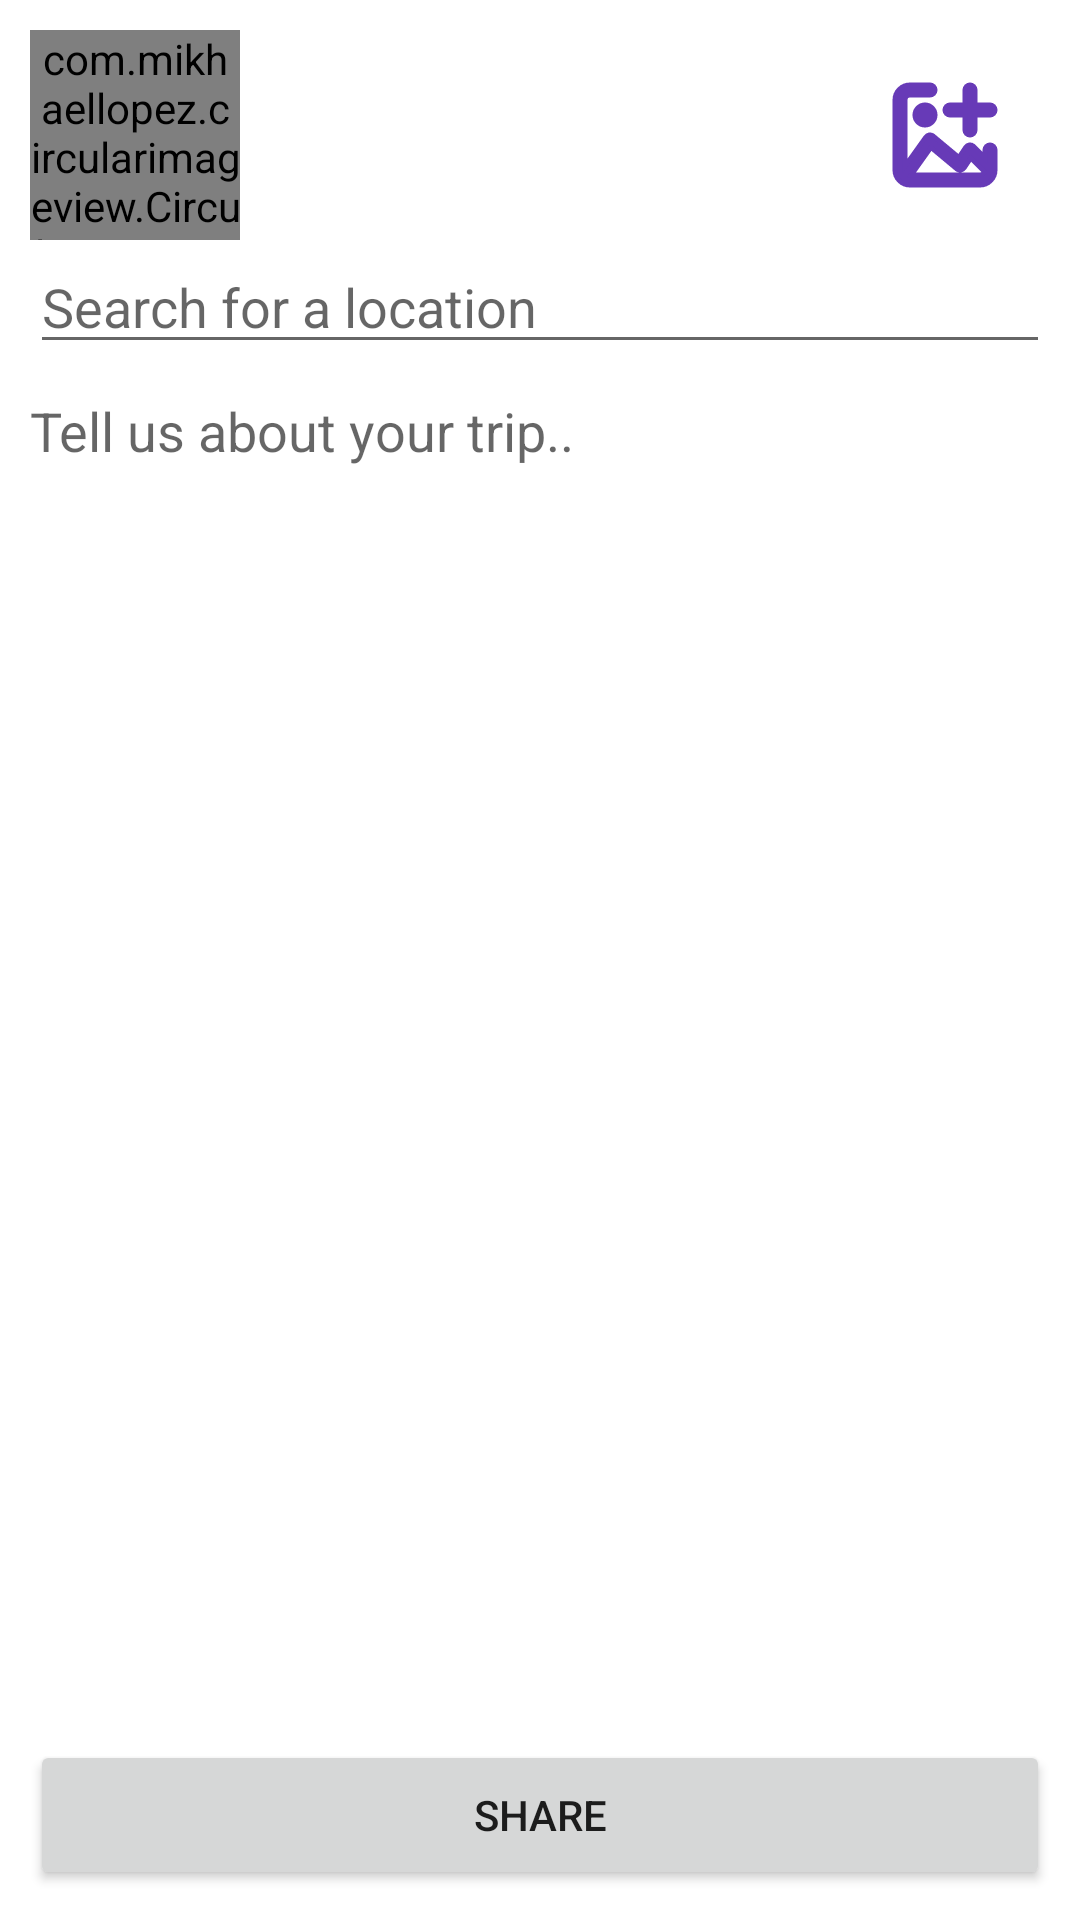

Screen size 1080w x 1920h. Icon name, then its box in pixels as [x1=x1, y1=y1, x2=x2, y2=y2]:
photo add: [x1=892, y1=82, x2=998, y2=188]
